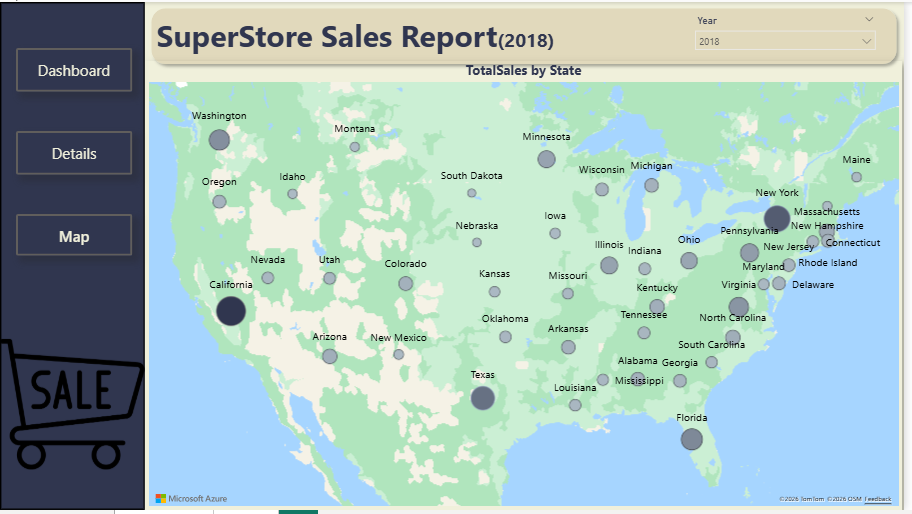

This screenshot's page, from the dashboard's own definition file:
{"tool":"powerbi","page":{"name":"Map","canvas":[1280,720],"ordinal":1},"visuals":[{"type":"shape","box":[205.3,0,1074.2,96.9],"z":0},{"type":"shape","box":[0,0,205.4,719.9],"z":1000},{"type":"actionButton","title":"Dashbourd","box":[23.1,65.1,164.8,62.2],"z":2000},{"type":"actionButton","title":"Map","box":[23.1,300.7,164.8,59.3],"z":3000},{"type":"actionButton","box":[23.1,182.2,164.8,62.2],"z":4000},{"type":"textbox","box":[216.9,13,757.6,70.8],"z":5000},{"type":"slicer","fields":{"Values":["Orders.Order Date.Variation.Date Hierarchy.Year","Orders.Order Date.Variation.Date Hierarchy.Quarter","Orders.Order Date.Variation.Date Hierarchy.Month","Orders.Order Date.Variation.Date Hierarchy.Day"]},"box":[974.5,13,276.1,70.8],"z":6000},{"type":"azureMap","title":"TotalSales by State","fields":{"Category":["Orders.State"],"Size":["Sum(Orders.Sales)"]},"box":[205.3,83.9,1072.8,636.1],"z":7000},{"type":"image","box":[0,419.3,205.3,300.7],"z":8000}]}

Visuals, with their boxes in screenshot pixels (x1, y1, x2, y2), scaled from the page's 1280x720 canvas onto the 912x514 screenshot:
shape: bbox=[146, 0, 911, 69]
shape: bbox=[0, 0, 146, 513]
"Dashbourd" actionButton: bbox=[16, 46, 134, 91]
"Map" actionButton: bbox=[16, 215, 134, 257]
actionButton: bbox=[16, 130, 134, 174]
textbox: bbox=[155, 9, 694, 60]
slicer - Orders.Order Date.Variation.Date Hierarchy.Year x Orders.Order Date.Variation.Date Hierarchy.Quarter: bbox=[694, 9, 891, 60]
"TotalSales by State" azureMap: bbox=[146, 60, 911, 513]
image: bbox=[0, 299, 146, 513]
